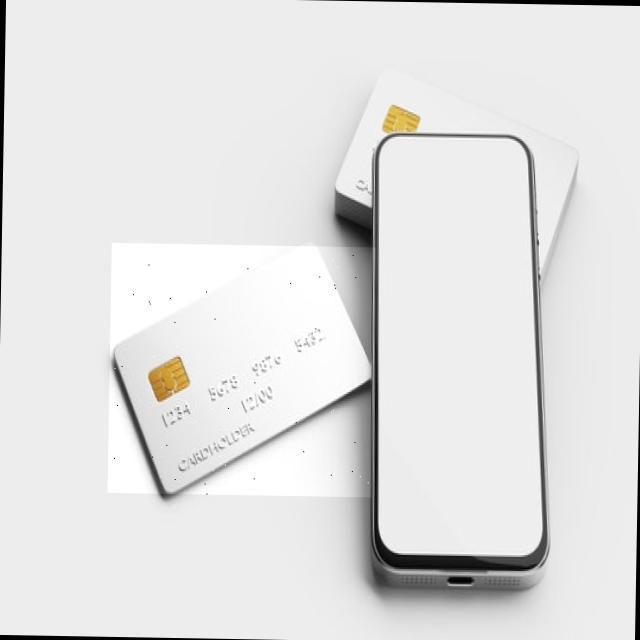payment_card: (110, 242, 372, 496)
